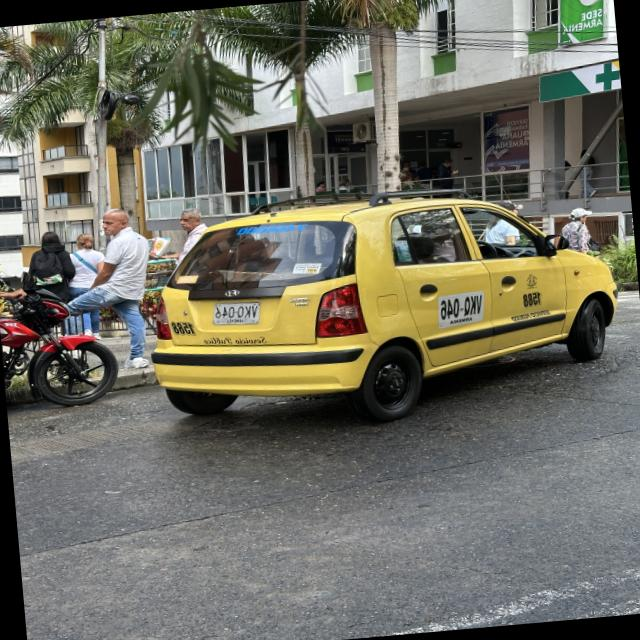number plate: (438, 290, 484, 327), (213, 301, 260, 324)
